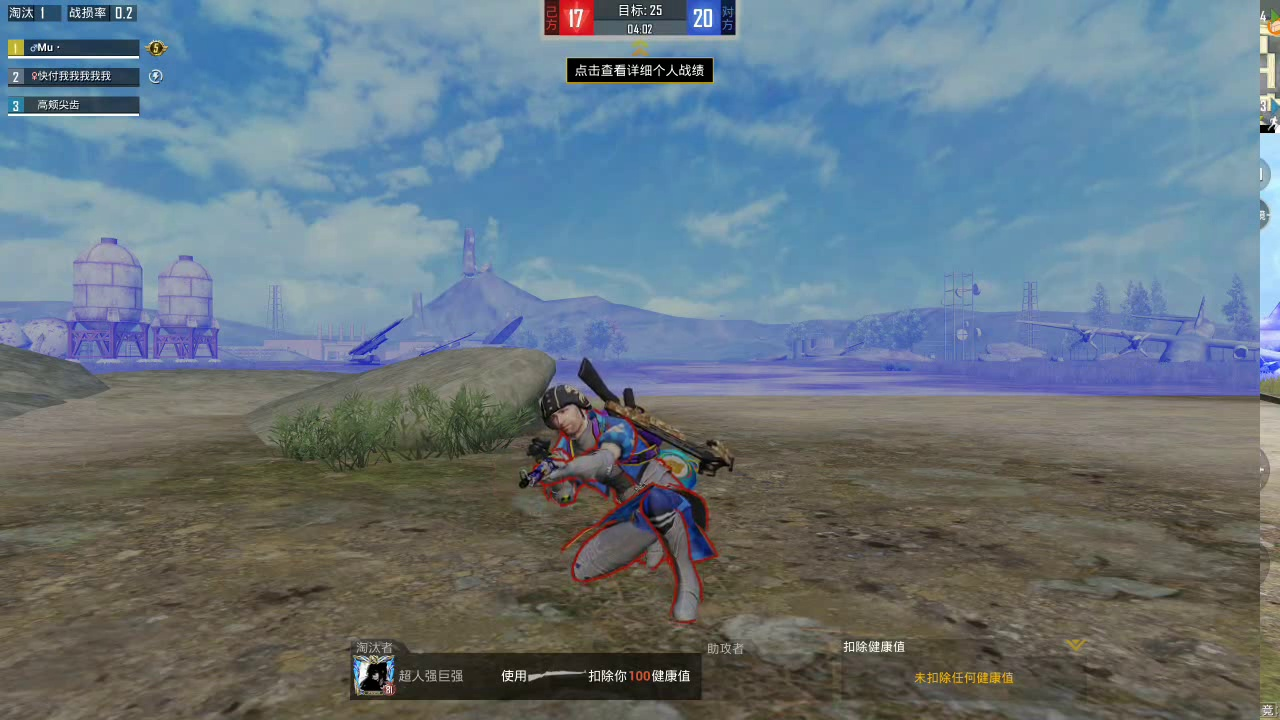enemy: (529, 387, 706, 622)
